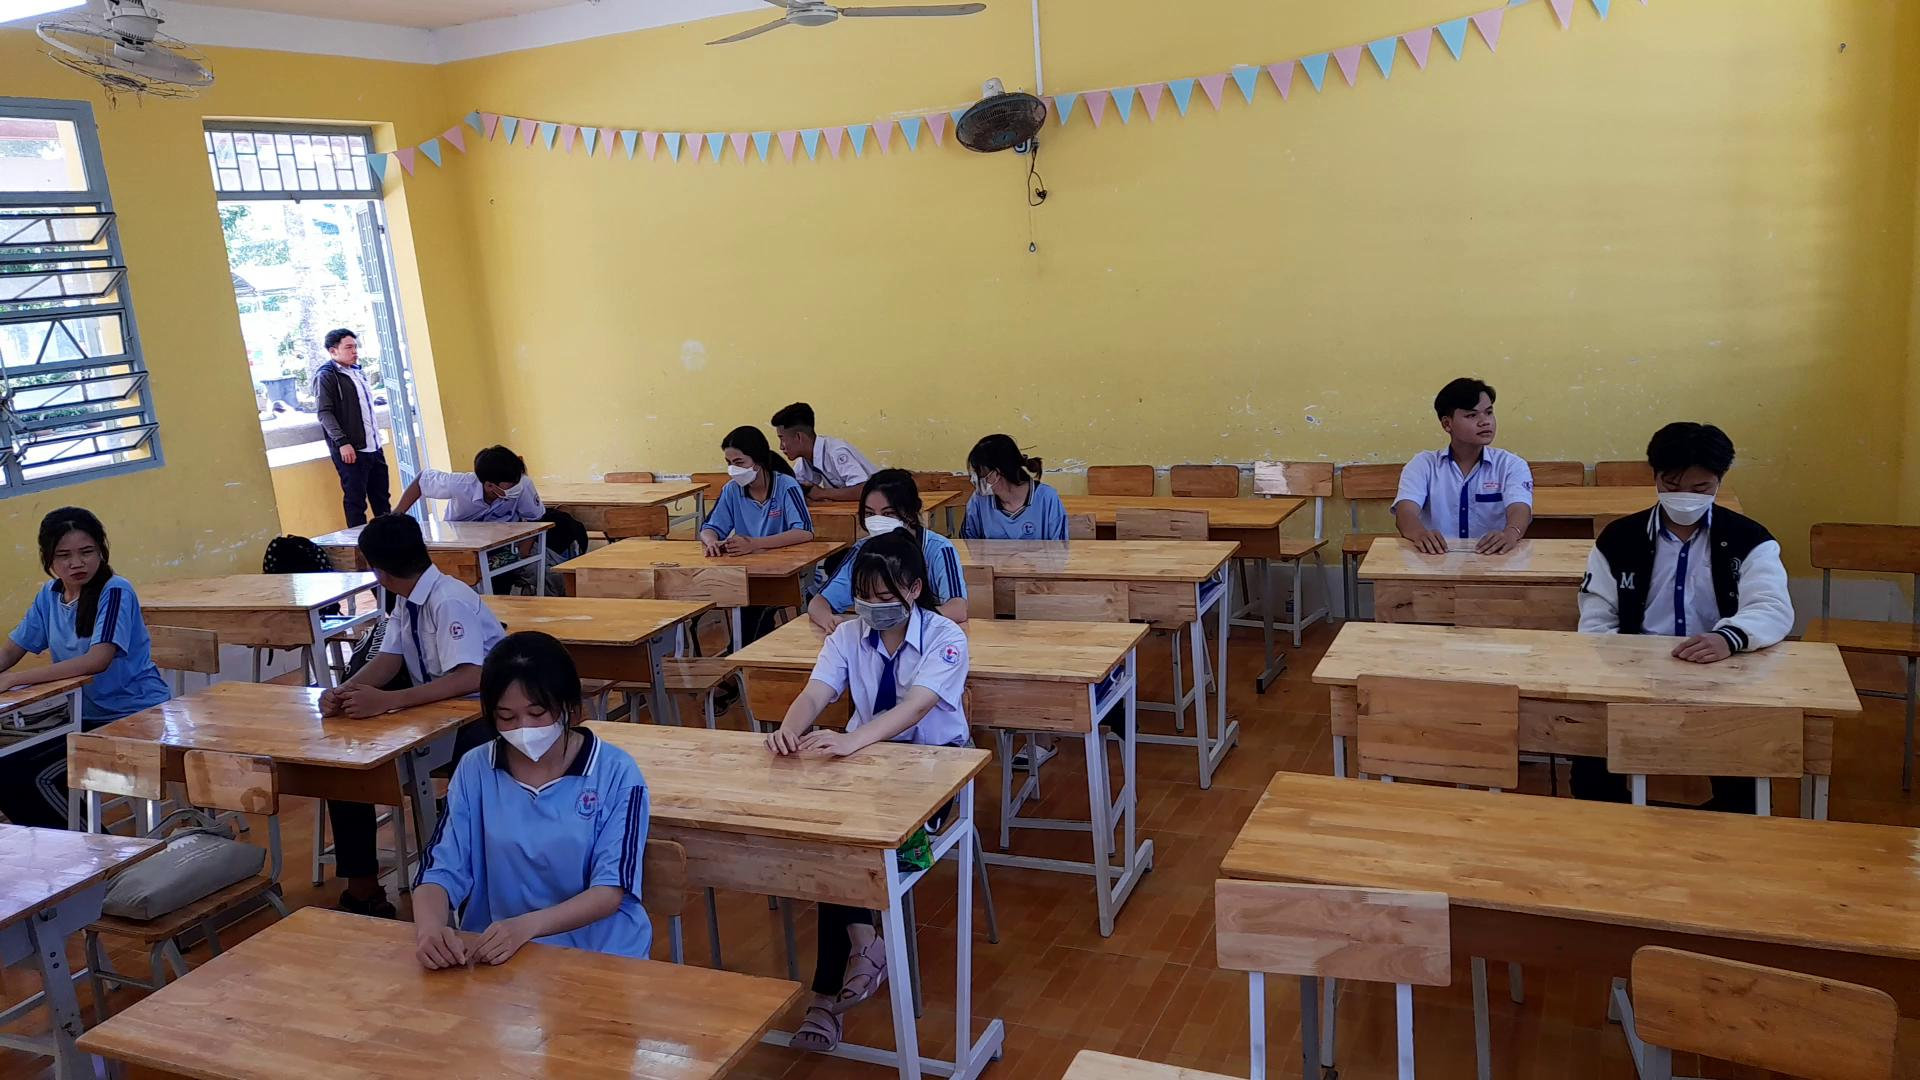Bend Over The Desk: (1630, 414, 1746, 530)
Hand Under Table: (1575, 512, 1626, 647), (1036, 464, 1076, 545)
Look Around: (21, 496, 132, 592), (335, 506, 440, 600), (959, 411, 1044, 508), (1428, 365, 1514, 462), (465, 419, 545, 510), (767, 378, 825, 465)
Normal: (376, 618, 658, 982), (757, 520, 978, 764), (684, 423, 815, 560)
